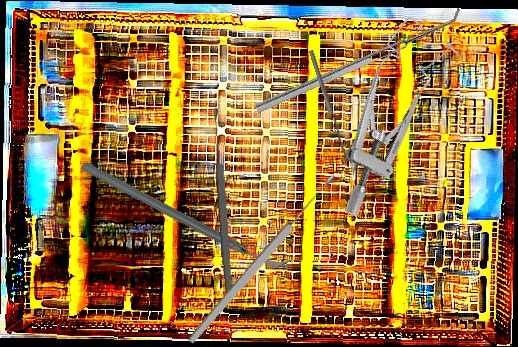Chopper: (78, 100, 294, 330)
Spatula Surgical: (251, 4, 465, 114), (308, 48, 355, 165)
Speculum: (289, 12, 478, 220)
Surgical Spoon: (184, 171, 340, 347), (210, 106, 235, 295)
